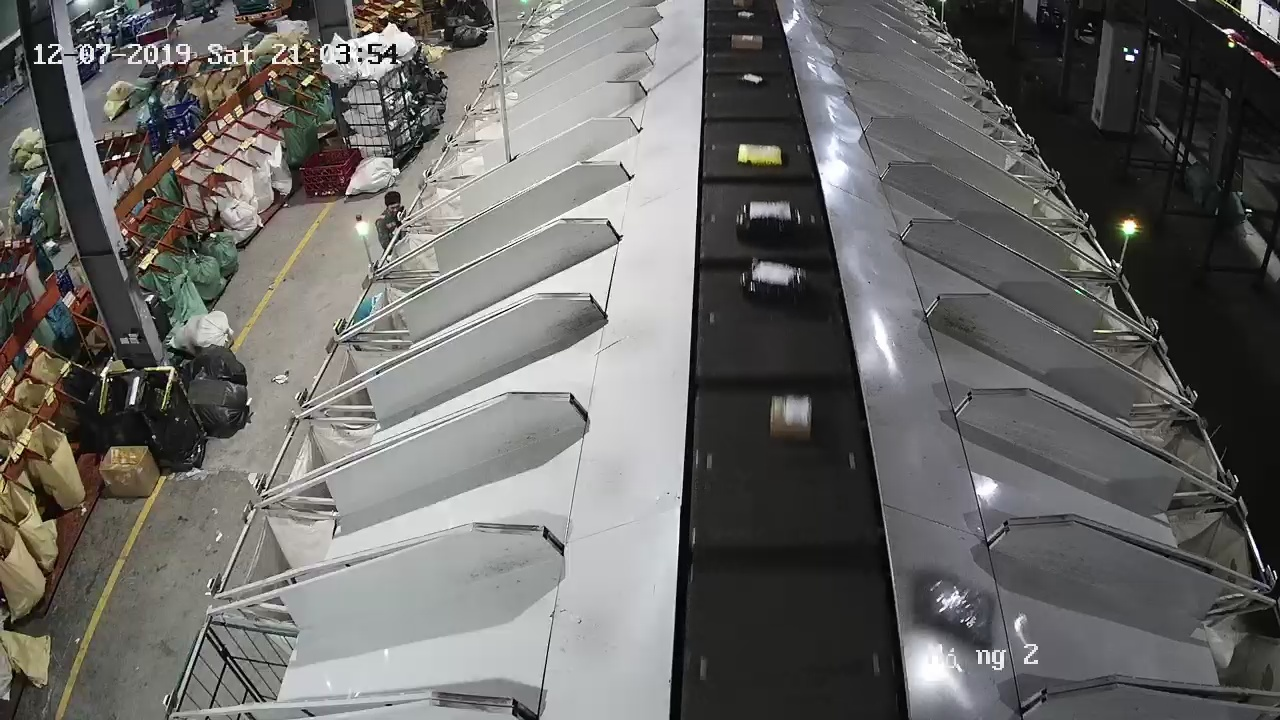parcel: (912, 569, 995, 649)
